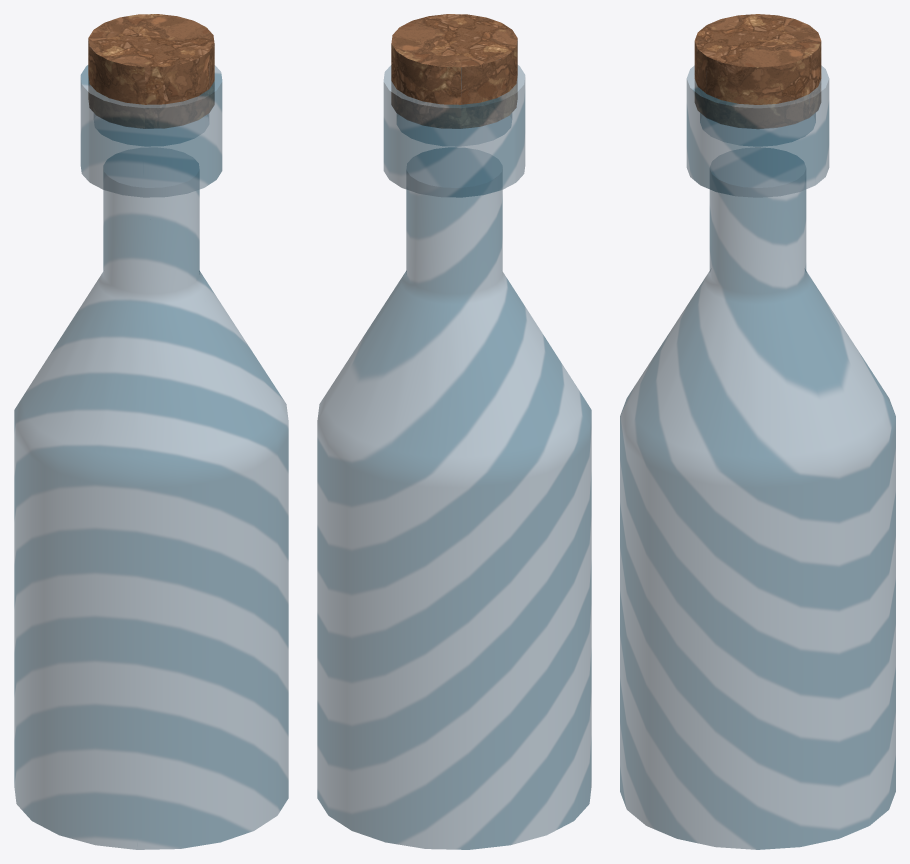
Rendered from ASM - PBR Metallic Roughness.gltf.
3 views of the same model, side by side, from view 1: azimuth 30°, elevation 25°; view 2: azimuth 150°, elevation 25°; view 3: azimuth 270°, elevation 25° (orthographic).
Visible parts, largest first — view 1: pCylinder1, pCylinder2, pCylinder3; view 2: pCylinder1, pCylinder2, pCylinder3; view 3: pCylinder1, pCylinder2, pCylinder3.
Boxes of the visible parts, x1,y1,x2,y2 form: pCylinder1: (14, 147, 288, 849); pCylinder2: (80, 65, 222, 197); pCylinder3: (88, 14, 214, 128); pCylinder1: (317, 147, 591, 849); pCylinder2: (383, 65, 525, 197); pCylinder3: (391, 14, 517, 128); pCylinder1: (620, 147, 895, 849); pCylinder2: (686, 65, 829, 197); pCylinder3: (694, 14, 821, 128).
Size of the model in its own units: 0.02 by 0.0601 by 0.02.
Materials: 1 (1 with a texture image).
